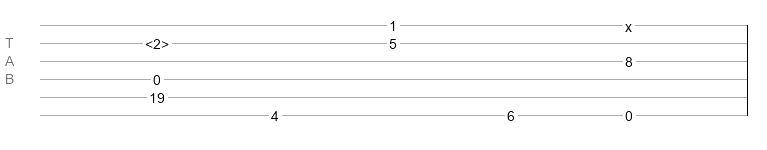0: (153, 72, 161, 82), (625, 108, 633, 118)
1: (389, 18, 397, 28)
19: (149, 90, 165, 100)
4: (271, 108, 279, 118)
5: (389, 36, 397, 46)
6: (507, 108, 515, 118)
8: (625, 54, 633, 64)
harmonic: (145, 36, 169, 46)
x: (625, 19, 632, 27)
